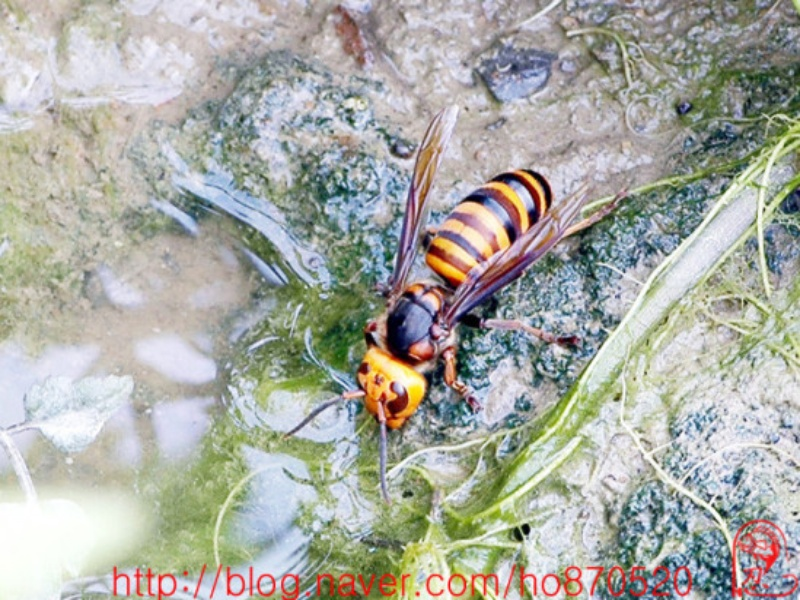asian_giant_hornet: (341, 165, 557, 435)
